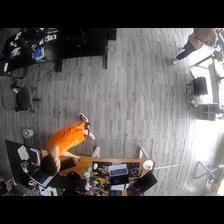normal: (40, 113, 95, 176), (172, 28, 220, 67)
